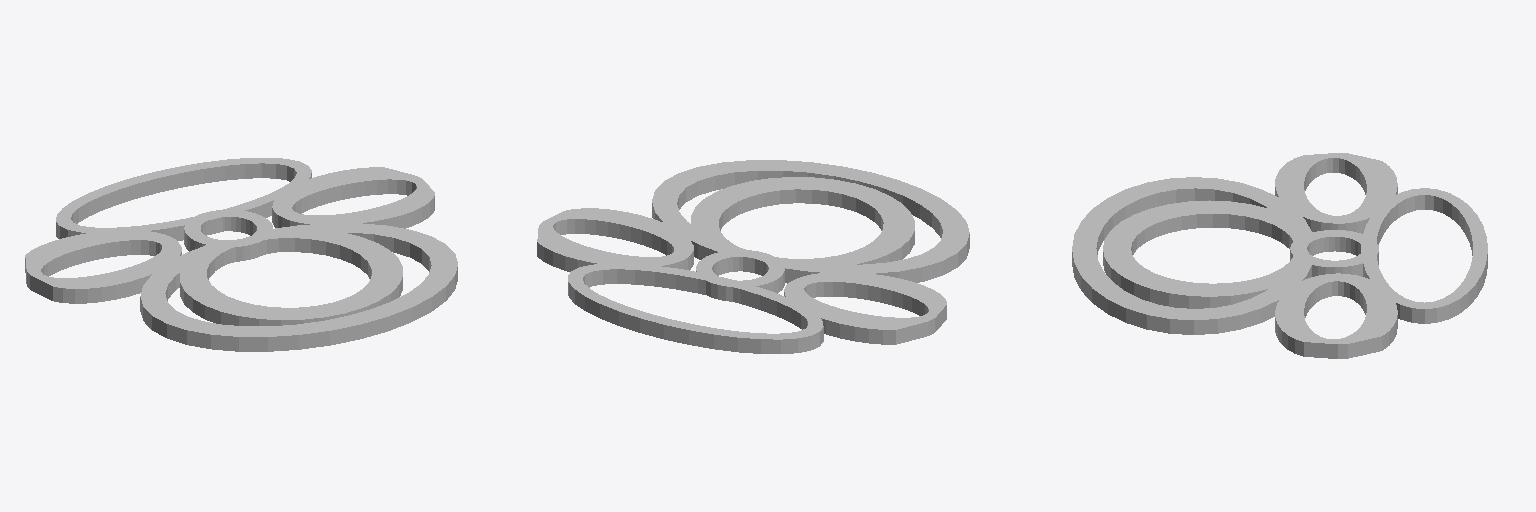
The model's file is PatternBehindGate.obj.
3 renders of one model, left to right at view 1: azimuth 30°, elevation 25°; view 2: azimuth 150°, elevation 25°; view 3: azimuth 270°, elevation 25°, orthographic.
Visible parts, largest first — view 1: Circle.000_Circle.006; view 2: Circle.000_Circle.006; view 3: Circle.000_Circle.006.
Part boxes in pixels (bbox=[...]): Circle.000_Circle.006: bbox=[25, 158, 457, 351]; Circle.000_Circle.006: bbox=[537, 160, 969, 353]; Circle.000_Circle.006: bbox=[1072, 153, 1487, 358].
Bounding box in the file's own units: 19.89 × 0.7147 × 18.24.